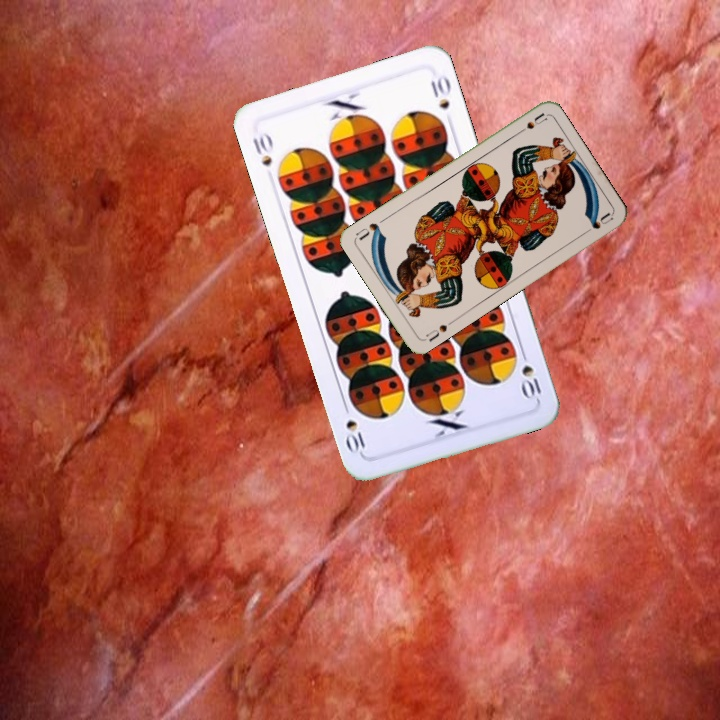S10: (517, 345, 544, 403), (248, 128, 275, 169)
SU: (511, 109, 549, 138), (422, 316, 456, 345)
